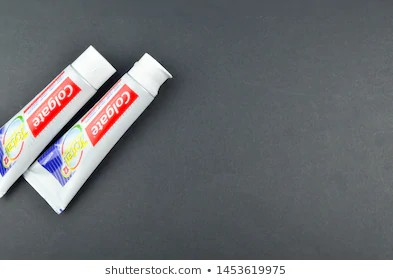colgate-total-150gm: (25, 49, 178, 218), (1, 43, 117, 194)
